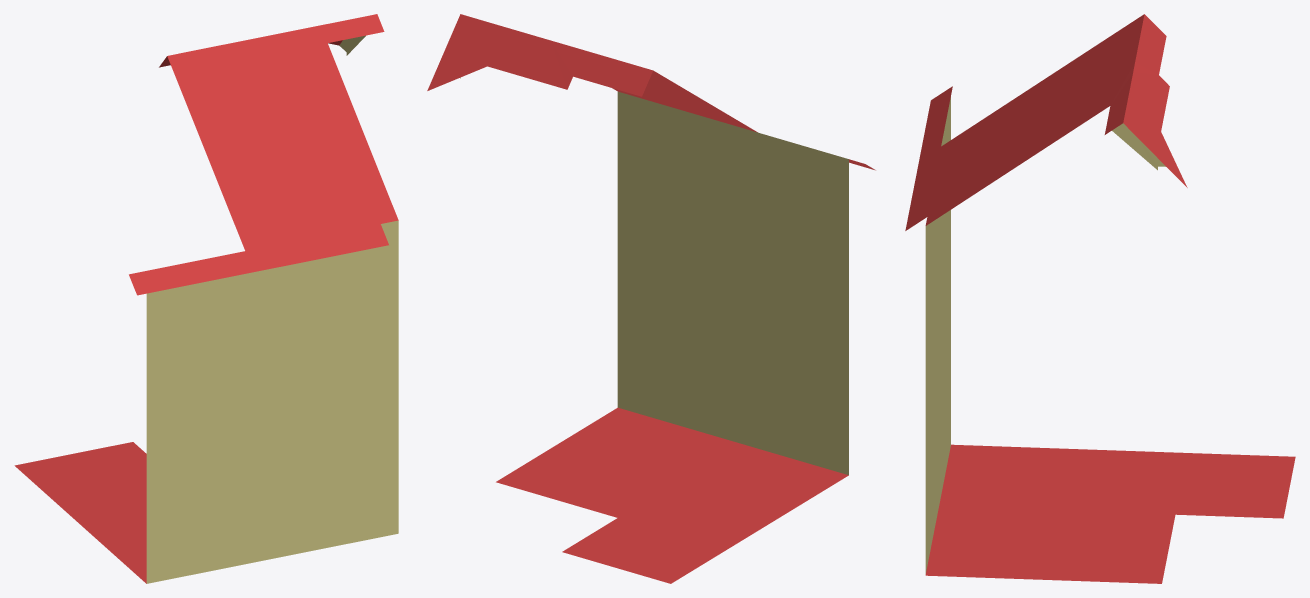
The picture shows the model from 3 angles, left to right: view 1: azimuth 30°, elevation 25°; view 2: azimuth 150°, elevation 25°; view 3: azimuth 270°, elevation 25°; orthographic projection. The views are drawn at different scales.
Size of the model in its own units: 9.65 by 8.84 by 12.23.
